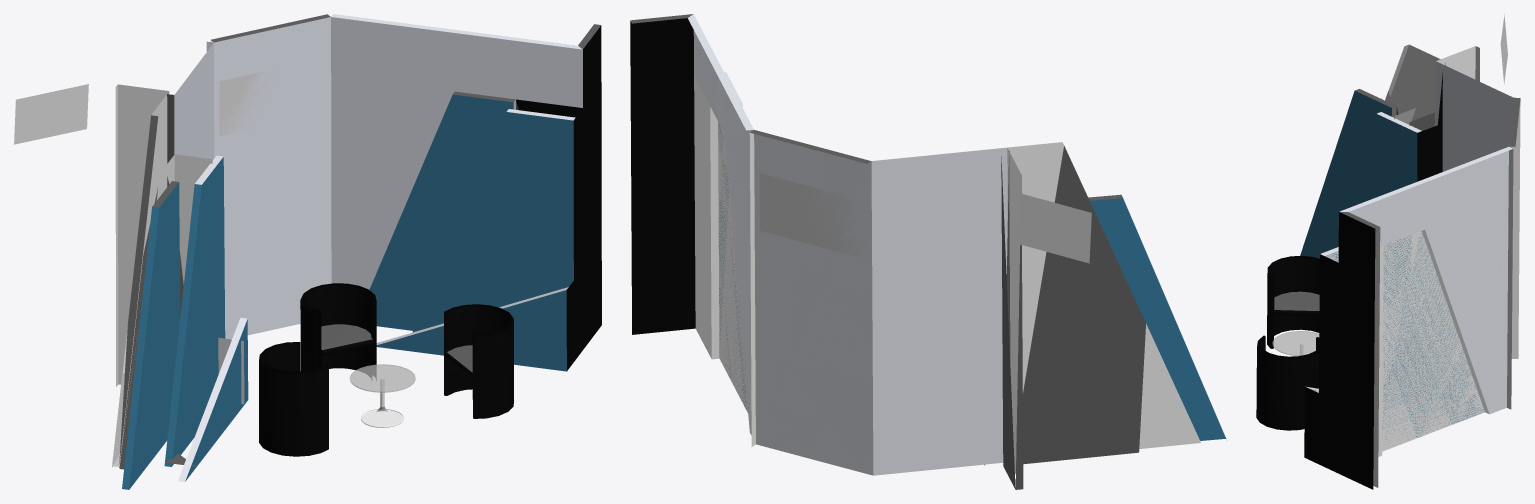
Rendered from one.gltf.
3 views of the same model, side by side, from view 1: azimuth 30°, elevation 25°; view 2: azimuth 150°, elevation 25°; view 3: azimuth 270°, elevation 25° (orthographic). The views are drawn at different scales.
Visible parts, largest first — view 1: SketchUp, group_0, oneTechLogo, image_6, group_1, group_2; view 2: SketchUp, image_6, oneTechLogo; view 3: SketchUp, group_0, group_1, oneTechLogo.
Boxes of the visible parts, left/top/right/bottom form: SketchUp: left=112, top=14, right=601, bottom=489; group_0: left=259, top=283, right=513, bottom=456; oneTechLogo: left=14, top=84, right=88, bottom=144; image_6: left=219, top=70, right=277, bottom=135; group_1: left=349, top=364, right=415, bottom=392; group_2: left=361, top=378, right=403, bottom=427; SketchUp: left=630, top=14, right=1226, bottom=489; image_6: left=759, top=173, right=866, bottom=258; oneTechLogo: left=1017, top=193, right=1091, bottom=263; SketchUp: left=1300, top=44, right=1520, bottom=489; group_0: left=1256, top=255, right=1319, bottom=430; group_1: left=1272, top=331, right=1319, bottom=355; oneTechLogo: left=1500, top=14, right=1507, bottom=84.
Bounding box in the file's own units: 220 × 123 × 110.
